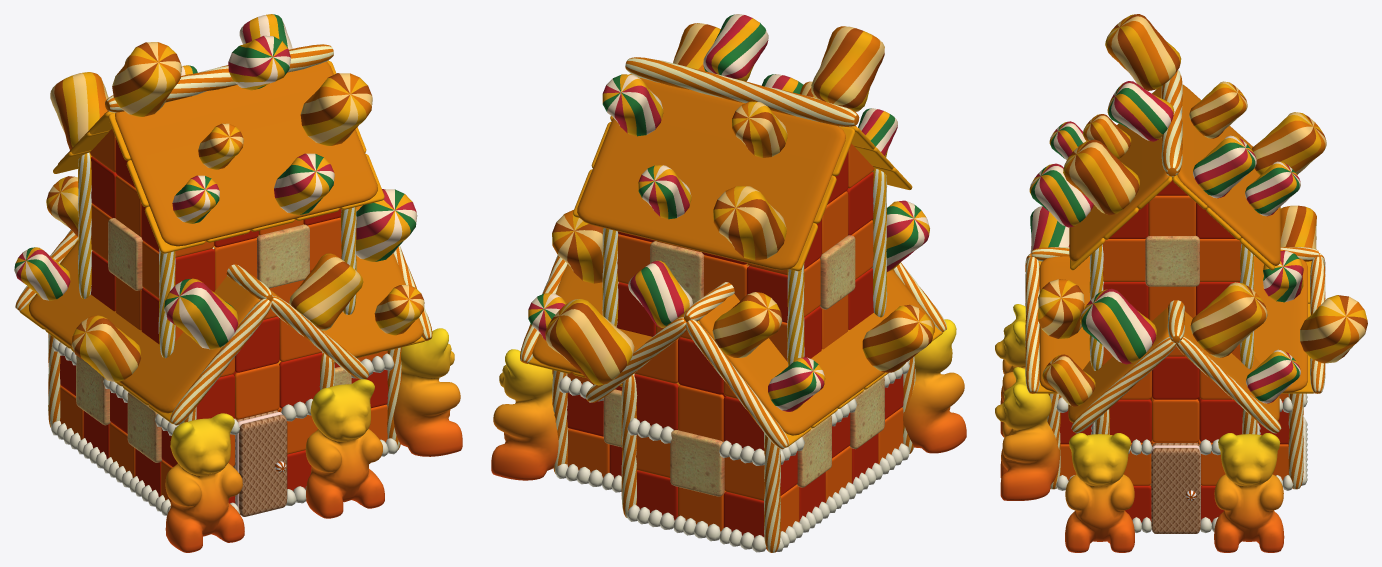
File: cw_house_29.fbx
3 renders of one model, left to right at view 1: azimuth 30°, elevation 25°; view 2: azimuth 150°, elevation 25°; view 3: azimuth 270°, elevation 25°, orthographic. The views are drawn at different scales.
Visible parts, largest first — view 1: cw_house_29; view 2: cw_house_29; view 3: cw_house_29.
Boxes of the visible parts, <box> form: cw_house_29: <box>14,14,462,552</box>; cw_house_29: <box>491,14,966,552</box>; cw_house_29: <box>995,14,1367,552</box>.
Bounding box in the file's own units: 864 × 1038 × 848.
